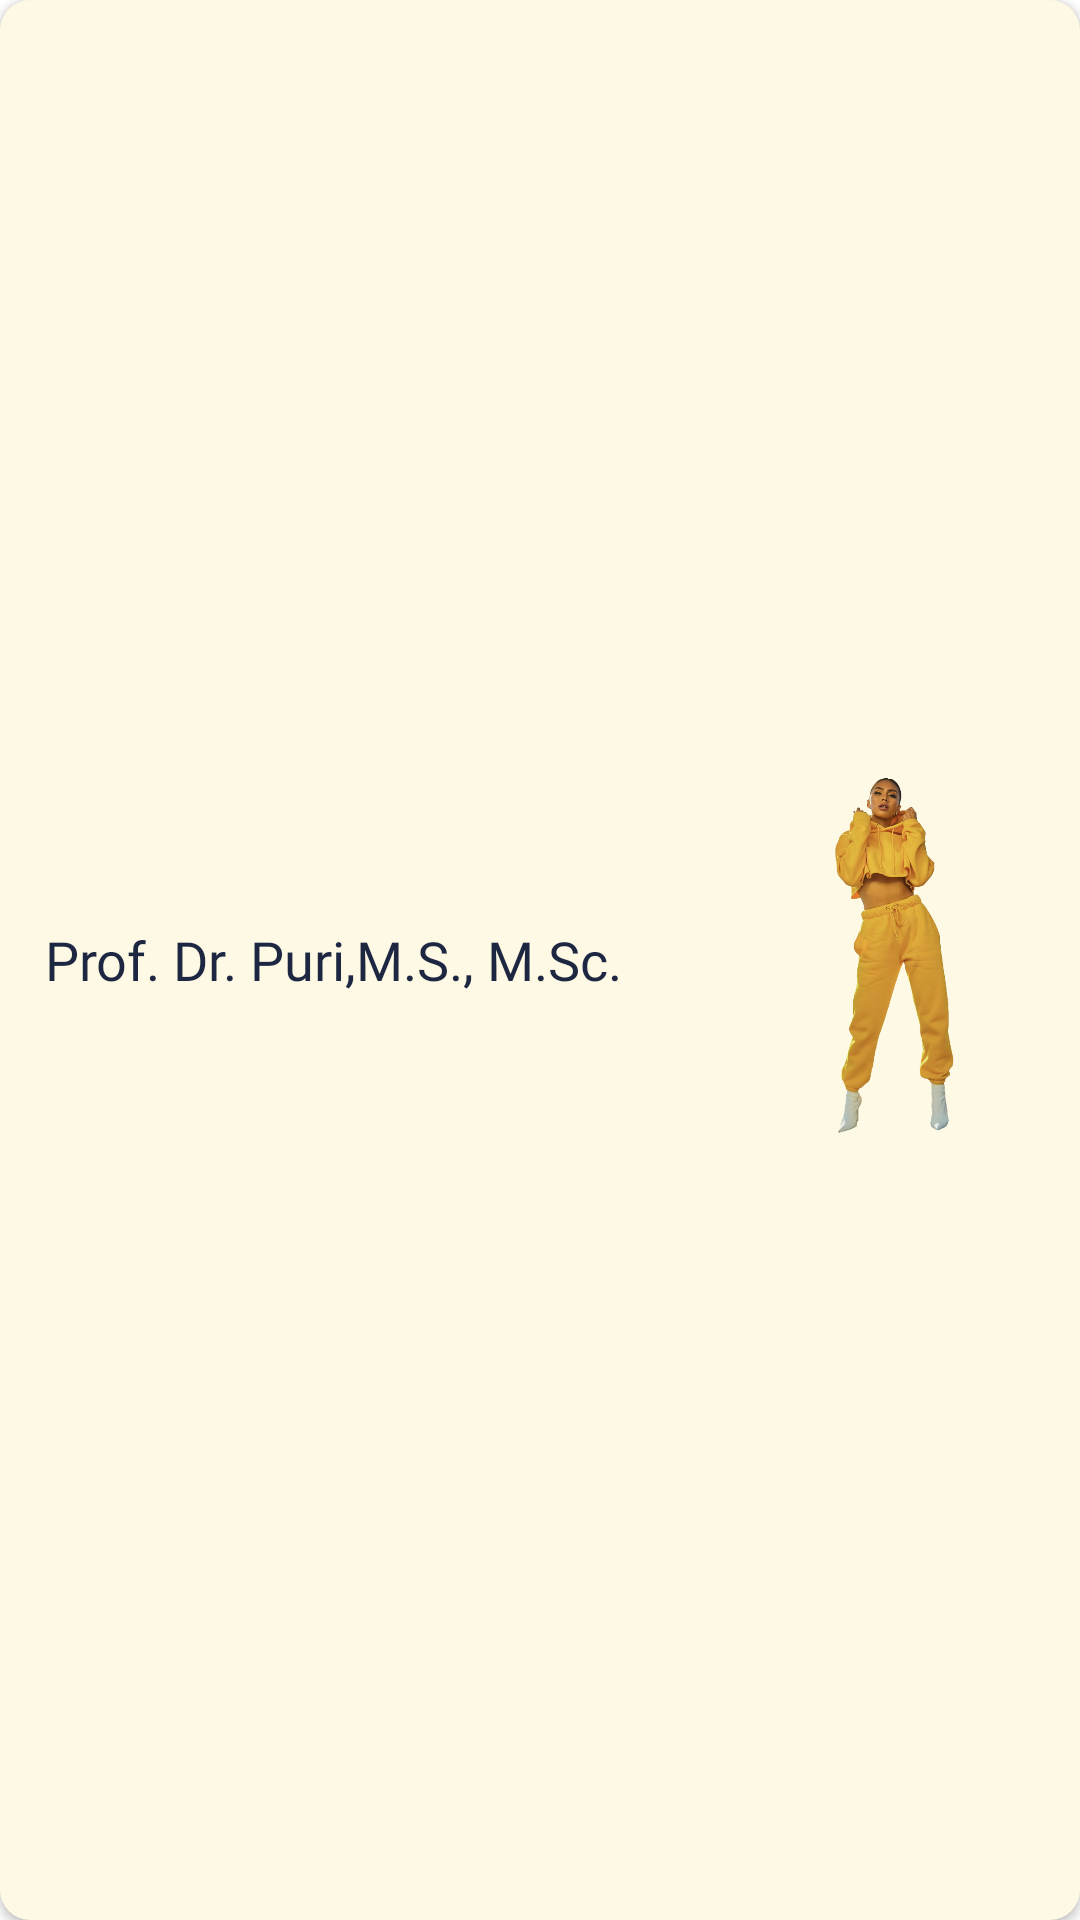

Named icons in this screenshot (1080*1920) and their centers, (x,y):
fotoorang: (894,955)
